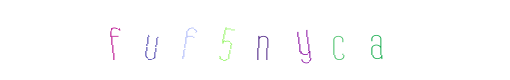5: (191, 0, 271, 80)
A: (329, 0, 409, 80)
C: (255, 0, 335, 80)
F: (152, 0, 232, 80), (180, 0, 260, 80)
N: (215, 0, 295, 80)
U: (170, 0, 250, 80)
Y: (249, 0, 329, 80)
